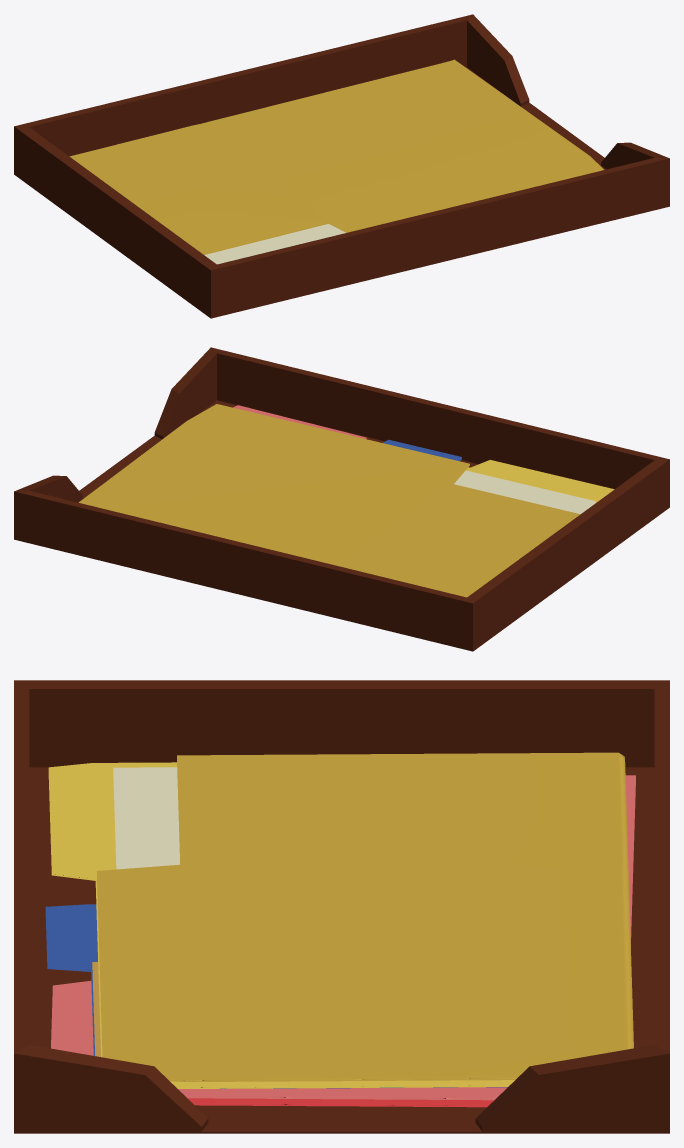
Rendered from outbox_modelingfbx.fbx.
3 views of the same model, one above another, from view 1: azimuth 30°, elevation 25°; view 2: azimuth 150°, elevation 25°; view 3: azimuth 270°, elevation 25° (orthographic). The views are drawn at different scales.
Parts seen in each view (by area): view 1: outbox_modelingfbx; view 2: outbox_modelingfbx; view 3: outbox_modelingfbx.
Part boxes in pixels (bbox=[...]): outbox_modelingfbx: bbox=[14, 14, 669, 318]; outbox_modelingfbx: bbox=[14, 347, 669, 651]; outbox_modelingfbx: bbox=[14, 680, 669, 1133].
Bounding box in the file's own units: 749 × 75.08 × 556.
